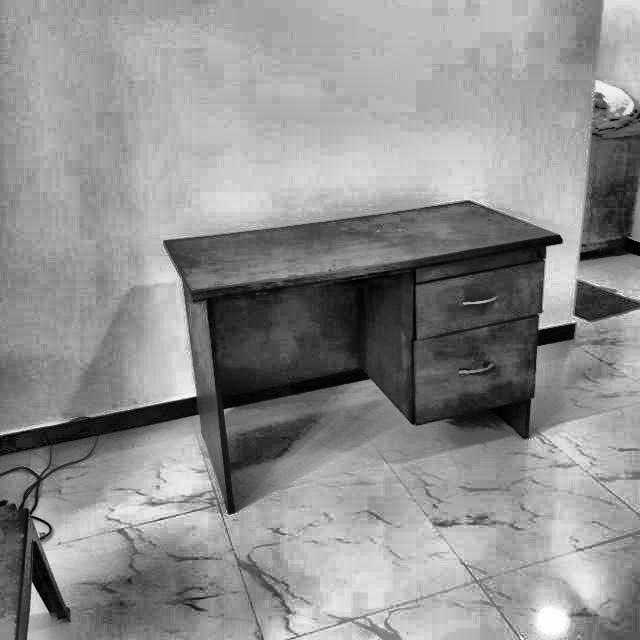mesa: (148, 188, 586, 529)
